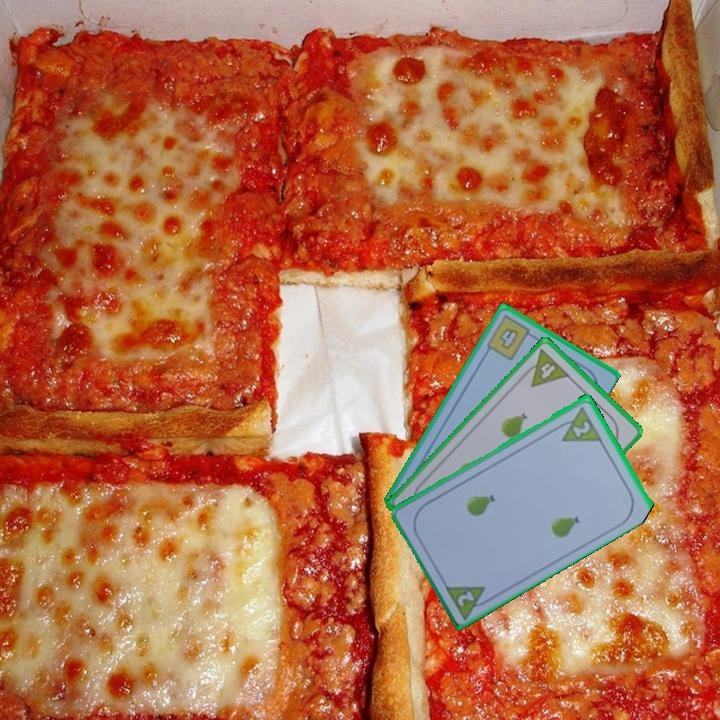2p: (552, 402, 604, 445), (453, 586, 478, 609)
4b: (483, 312, 538, 363)
4p: (518, 345, 573, 390)
